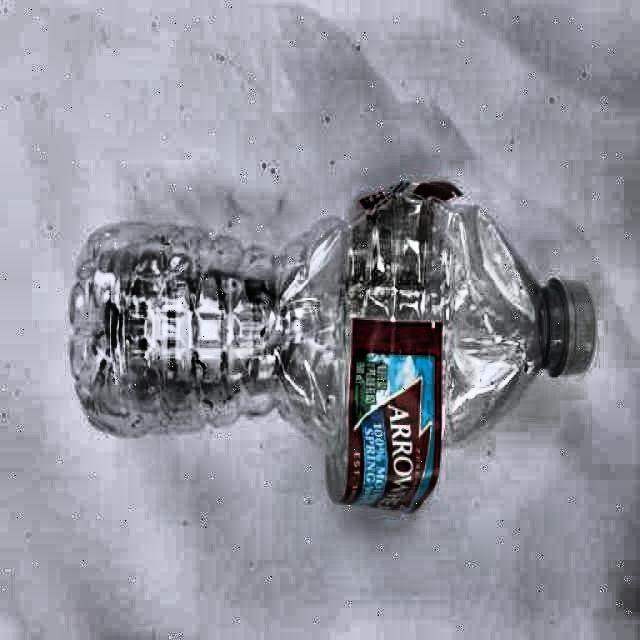plastic: (70, 182, 597, 514)
